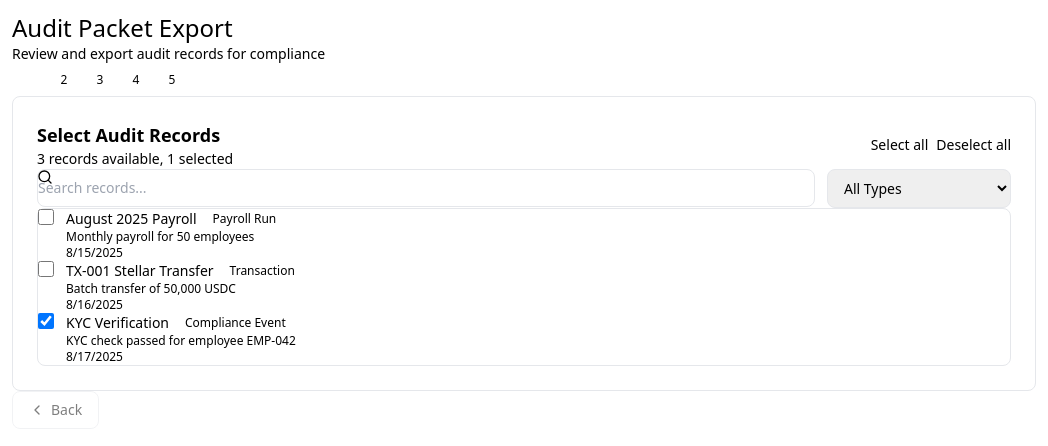
AuditExportWizard › deselects all entries
This screenshot has width=1048, height=446.
Click the button "Deselect all": (974, 145) [936,135,1011,155]
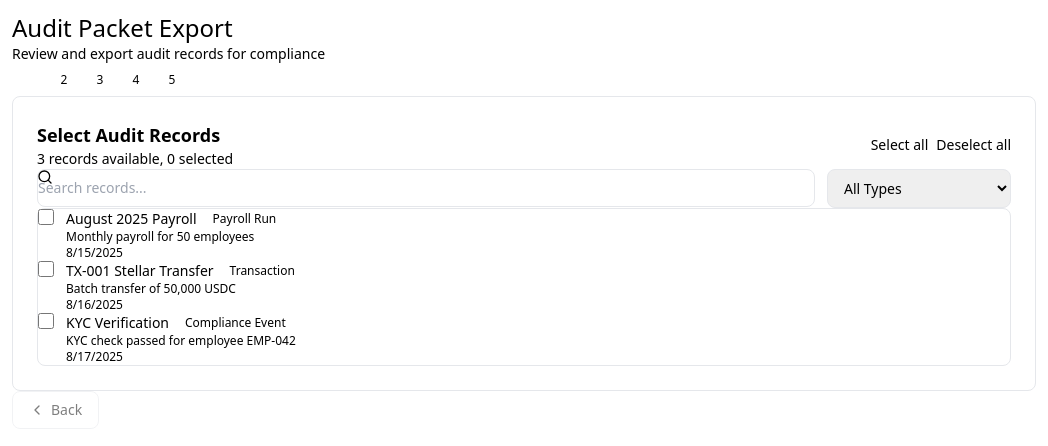
Now the text "3 records available, 0 selected" is shown, box [37,149,233,169]
